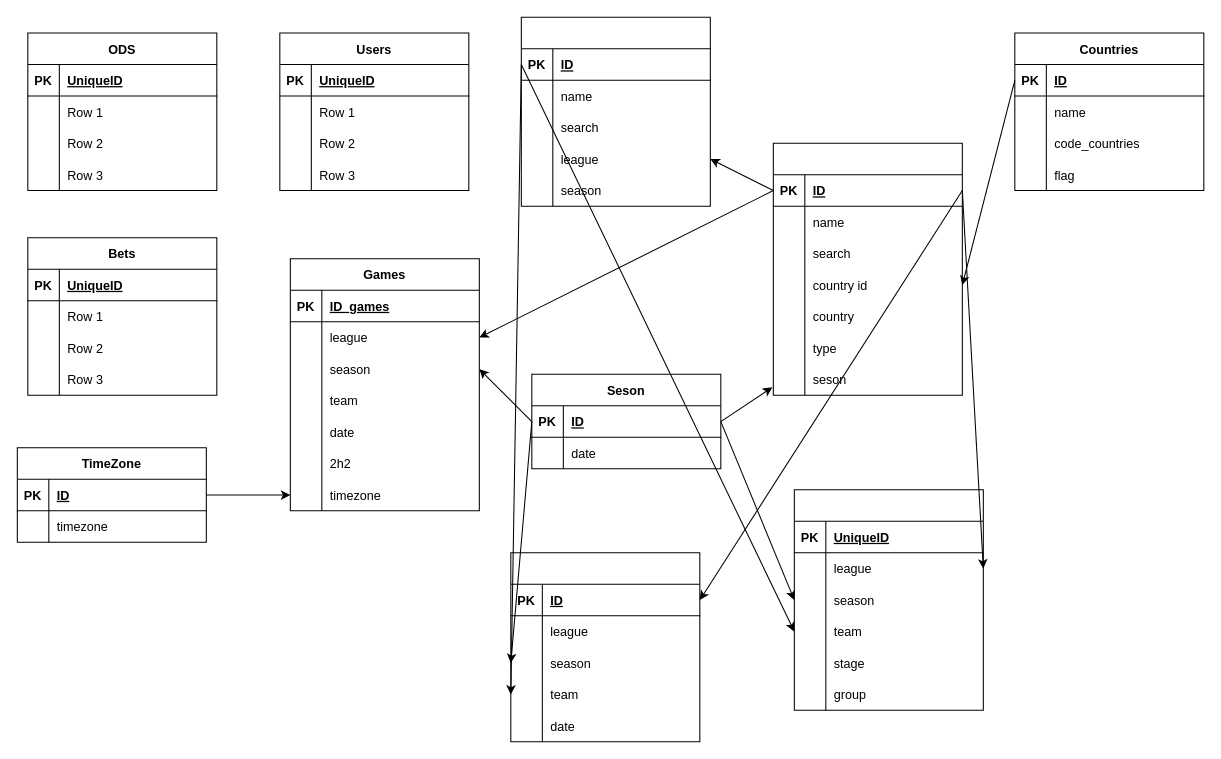
Some shapes in this 1221 by 759 pixel diagram are drawn without their labels. Each missing label, with the box of its shape:
Legues: (772, 142, 962, 395)
Standings: (793, 489, 983, 710)
Statistics: (510, 552, 700, 742)
Teams: (520, 16, 710, 206)
